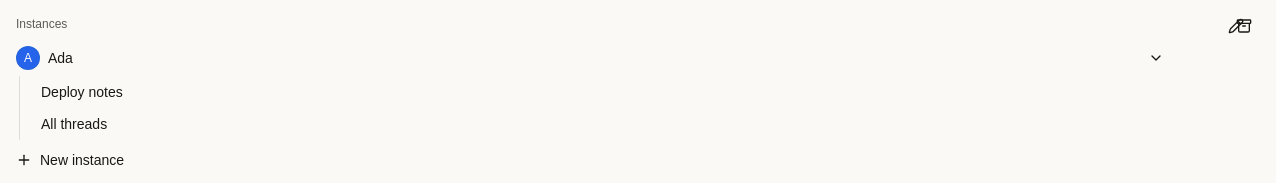
Test case: a thread's header › beside the sidebar › archives the thread out of the sidebar, and unarchives it back
The width and height of the screenshot is (1276, 183).
Expected: the link "Deploy notes" is shown, [41, 84, 123, 100]
Click the button named "Archive" at (1244, 26), box [1228, 10, 1260, 42]
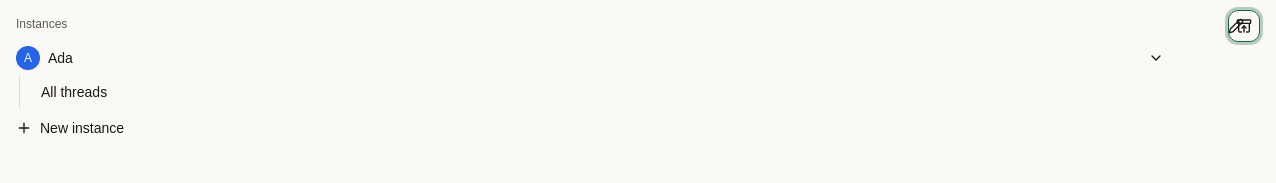
Click the button named "Unarchive" at (1244, 26), box [1228, 10, 1260, 42]
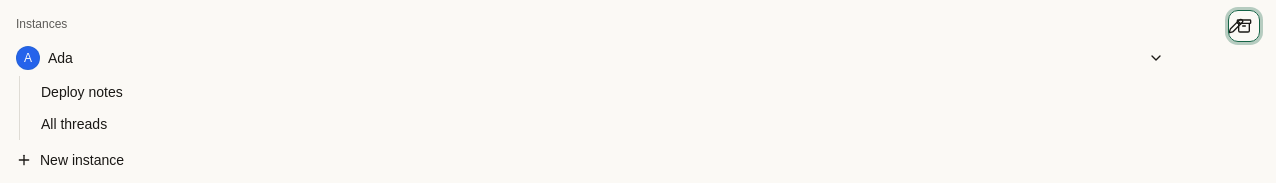
Expected: the link "Deploy notes" is shown, [41, 84, 123, 100]
